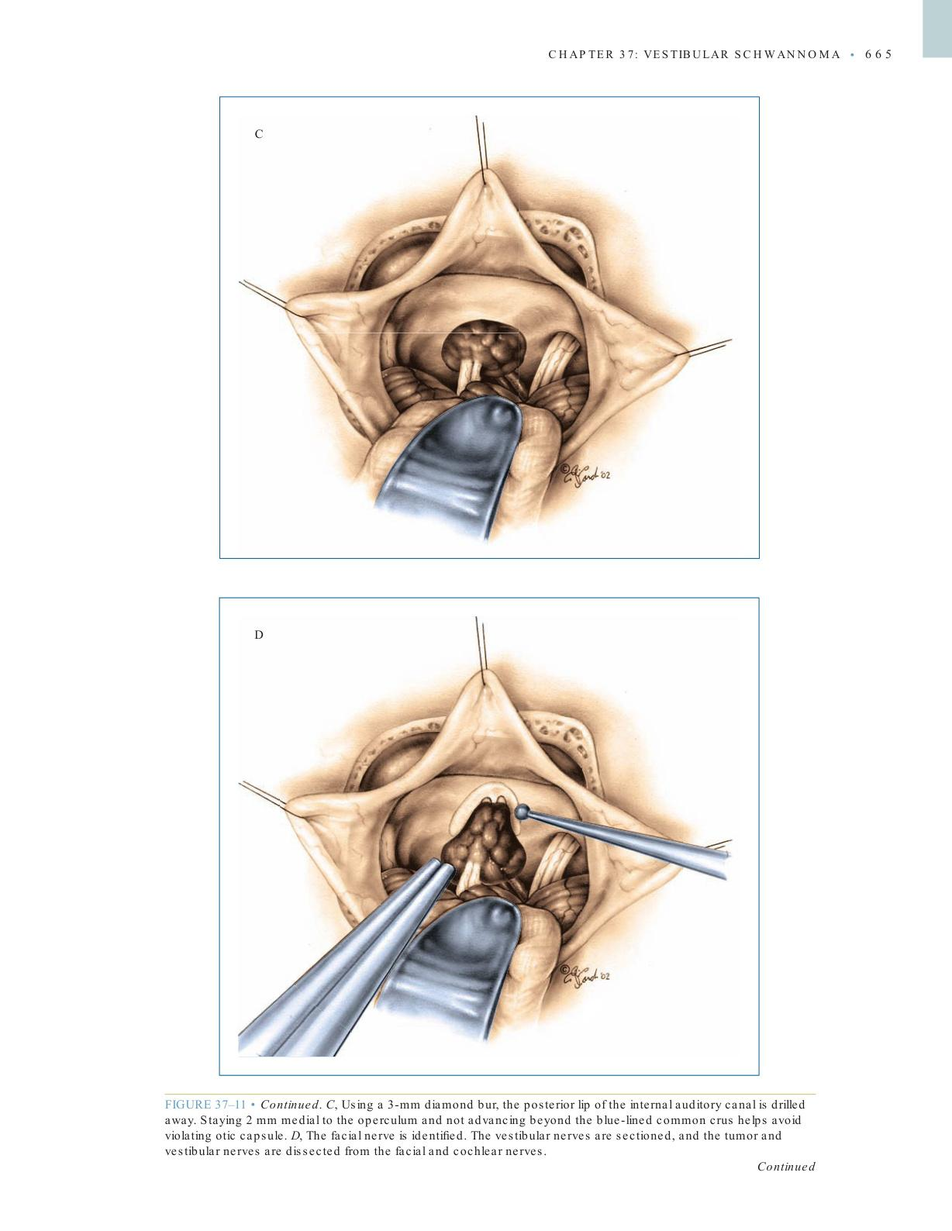caption: (163, 1097, 808, 1158), (253, 127, 265, 140), (253, 628, 265, 641)
header: (547, 46, 841, 61)
image: (226, 603, 751, 1069), (225, 103, 751, 551)
